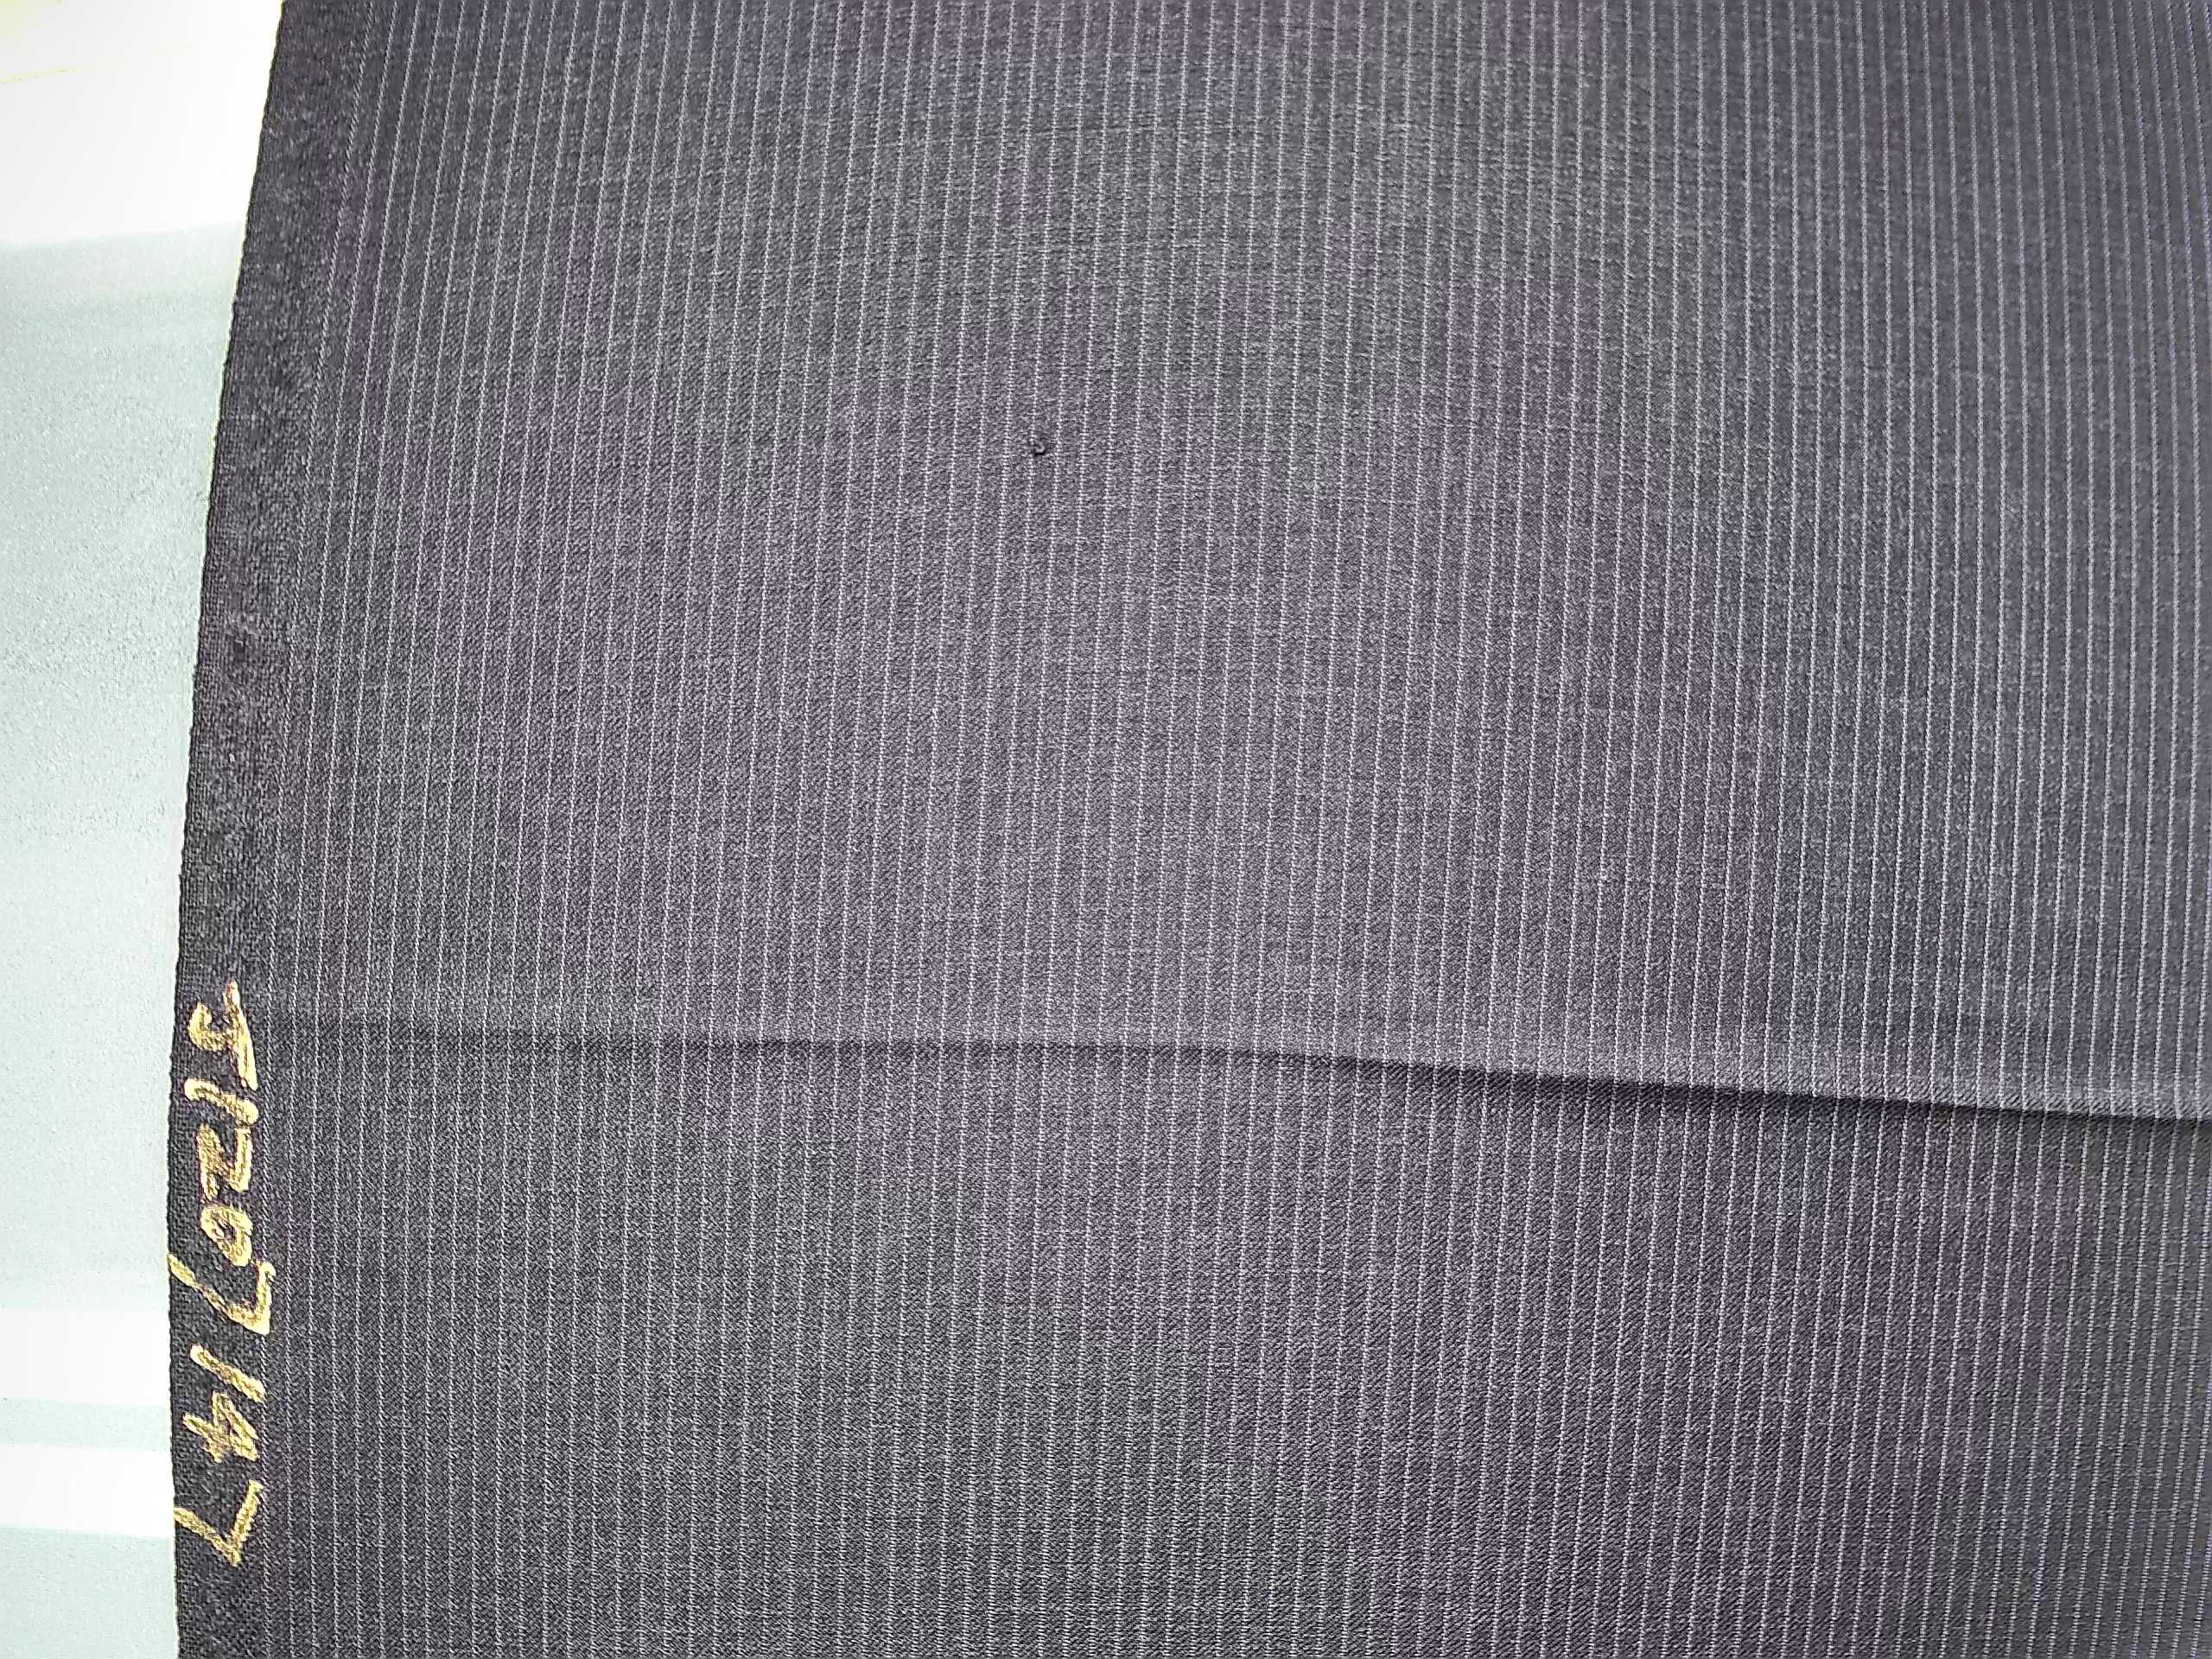others: (1005, 397, 1085, 497)
